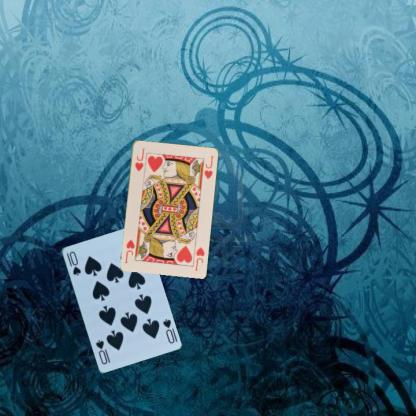10s: (64, 248, 82, 277), (160, 316, 176, 344)
Jh: (192, 244, 206, 272), (132, 146, 146, 172)
